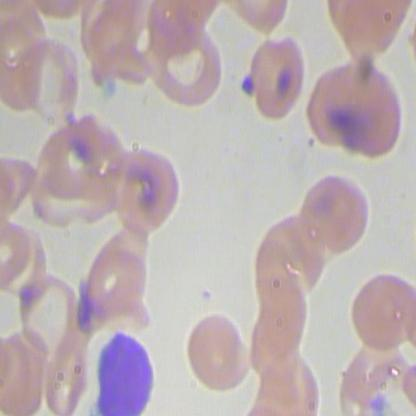Platelets: (234, 74, 257, 100)
RBC: (32, 116, 126, 220), (333, 65, 410, 163), (263, 208, 337, 293), (237, 35, 311, 120), (298, 172, 371, 257), (114, 146, 187, 231), (181, 310, 254, 395), (149, 27, 222, 112), (15, 38, 88, 123), (14, 269, 87, 354), (79, 243, 152, 328), (343, 265, 415, 350), (304, 62, 371, 152), (39, 331, 93, 415), (259, 351, 322, 415)
WBC: (92, 328, 168, 415)
